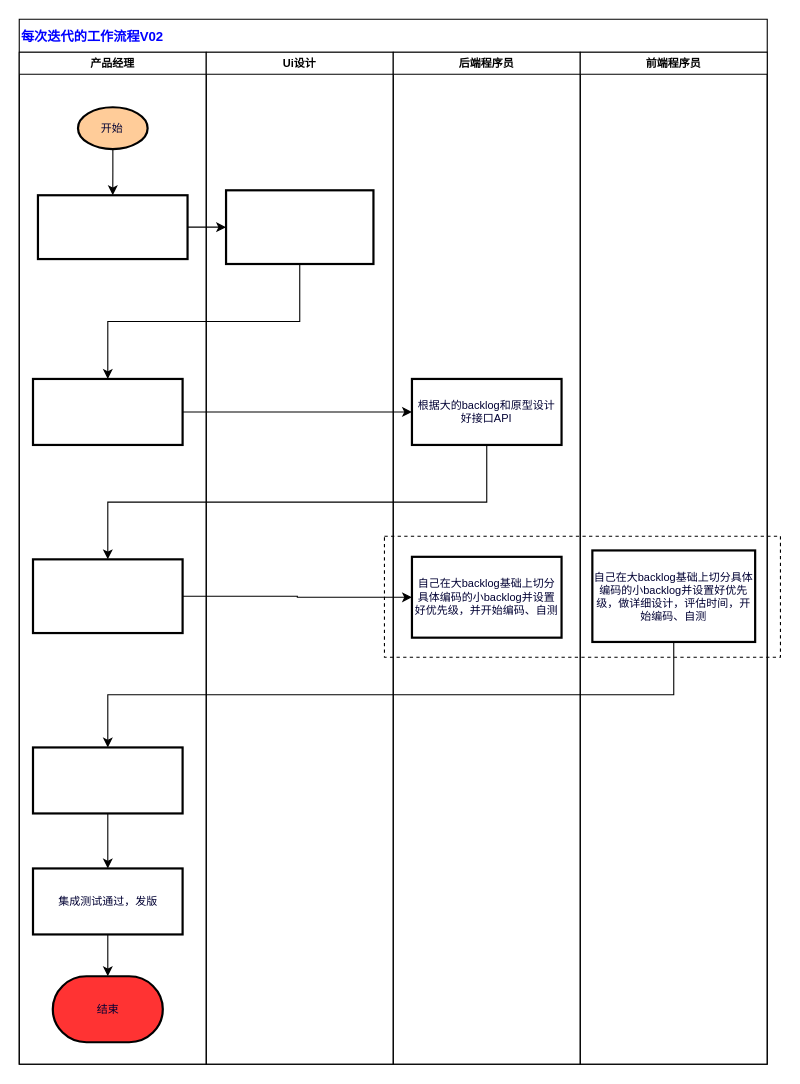
Some shapes in this 800 by 1084 pixel diagram are drawn without their labels. Here are the shapes that lost their labels. From the top down, the centre of each, then its label:
(x=112, y=227): 根据需求调研结果，指导UI做原型
(x=299, y=227): 根据PM的要求做高保真动态原型，直到客户确认通过
(x=107, y=411): 把大的backlog录入到研发管理系统
(x=107, y=596): 对照高保真原型审核每一个API接口，发现问题立即安排后端程序员修改，直到完全匹配
(x=107, y=780): 与QC一起做集成测试
